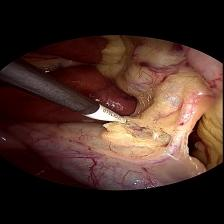Hook: (86, 102, 130, 126)
